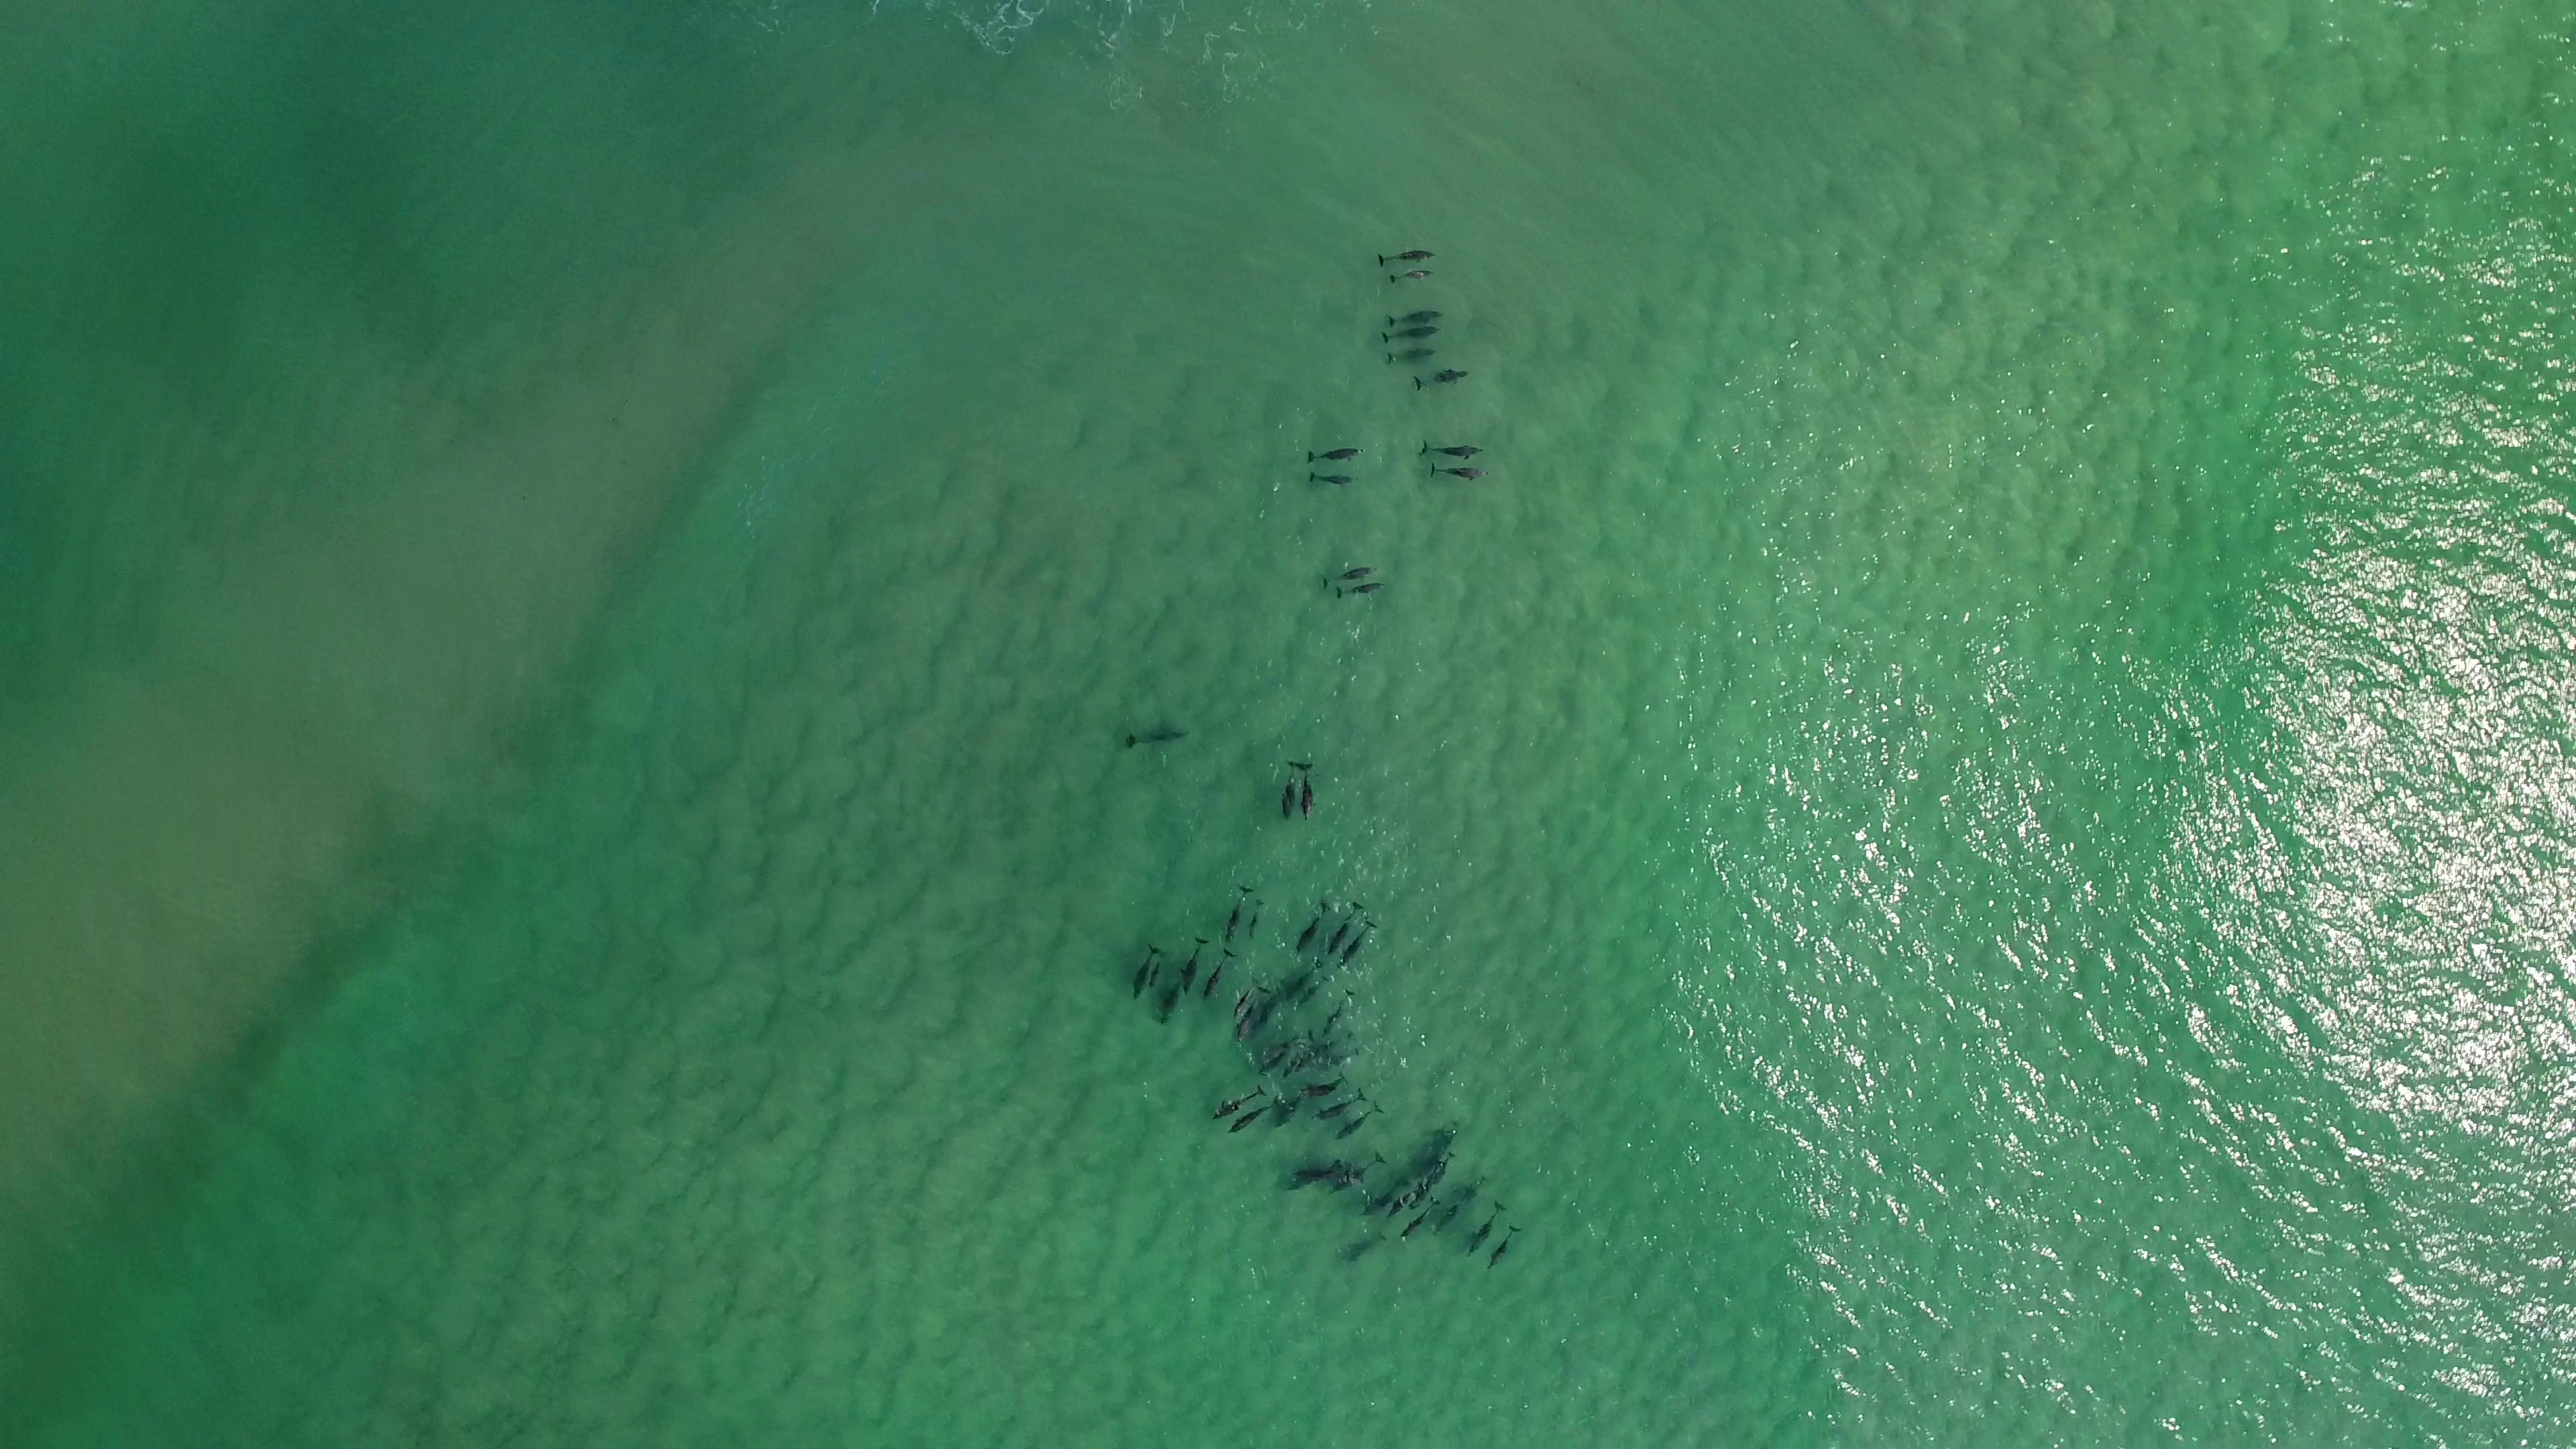dolphin: (1224, 1093, 1284, 1139), (1322, 897, 1366, 957), (1465, 1200, 1506, 1258), (1336, 1148, 1385, 1196), (1293, 897, 1330, 954), (1341, 916, 1380, 970), (1311, 1086, 1368, 1122), (1223, 883, 1256, 941), (1336, 1099, 1382, 1141), (1212, 1083, 1267, 1118), (1281, 955, 1323, 1000), (1178, 936, 1210, 994), (1127, 722, 1194, 748), (1488, 1221, 1522, 1274), (1322, 985, 1355, 1037), (1238, 982, 1269, 1039), (1129, 947, 1161, 1000), (1438, 1180, 1472, 1230), (1399, 1196, 1438, 1238), (1205, 947, 1235, 1001), (1265, 1024, 1313, 1058), (1417, 437, 1491, 458), (1292, 1157, 1341, 1189), (1300, 1070, 1348, 1102), (1366, 1173, 1407, 1210), (1323, 561, 1380, 587), (1307, 442, 1368, 467), (1387, 1180, 1424, 1219), (1414, 368, 1472, 391), (1375, 248, 1438, 267), (1300, 759, 1318, 828), (1233, 975, 1261, 1017), (1426, 1150, 1456, 1189), (1281, 755, 1299, 819), (1426, 464, 1493, 479), (1260, 1044, 1292, 1077), (1384, 345, 1438, 364), (1385, 310, 1445, 327), (1380, 326, 1444, 341), (1322, 1044, 1362, 1069), (1300, 975, 1329, 1007), (1332, 582, 1387, 598), (1150, 950, 1171, 989), (1247, 897, 1267, 938), (1387, 269, 1435, 283), (1304, 472, 1366, 483)
